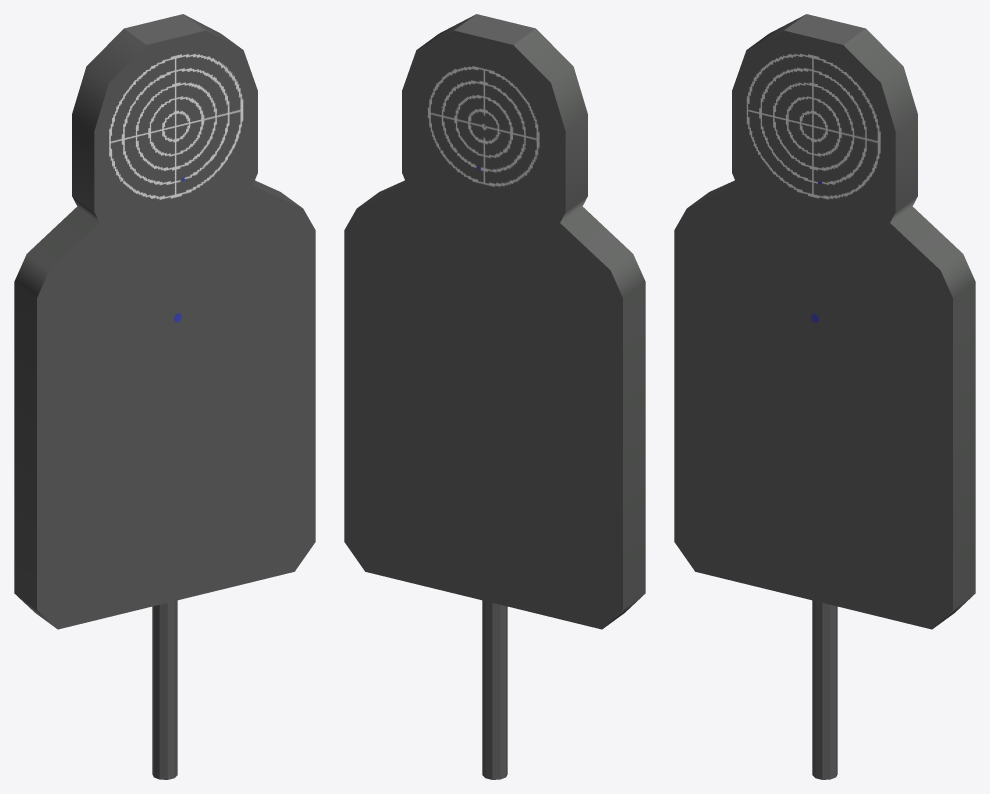
The model's file is target.fbx.
3 renders of one model, left to right at view 1: azimuth 30°, elevation 25°; view 2: azimuth 150°, elevation 25°; view 3: azimuth 330°, elevation 25°, orthographic.
Parts seen in each view (by area): view 1: node_id6, node_id7; view 2: node_id6, node_id7; view 3: node_id6, node_id7.
Part boxes in pixels (bbox=[...]): node_id6: bbox=[14, 14, 315, 629]; node_id7: bbox=[152, 600, 177, 779]; node_id6: bbox=[344, 14, 645, 629]; node_id7: bbox=[482, 600, 507, 779]; node_id6: bbox=[674, 14, 975, 629]; node_id7: bbox=[812, 600, 837, 779].
Bounding box in the file's own units: 0.2003 × 0.512 × 0.0281.
2 materials, 1 textured.
